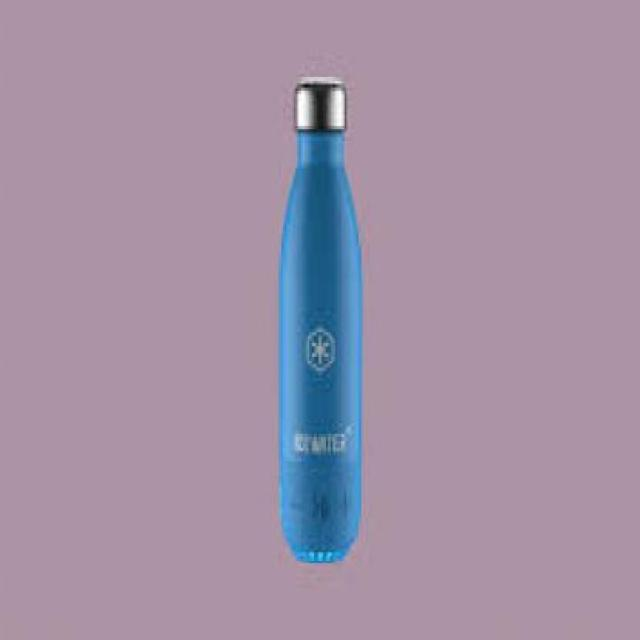Drinking: (263, 67, 372, 596)
